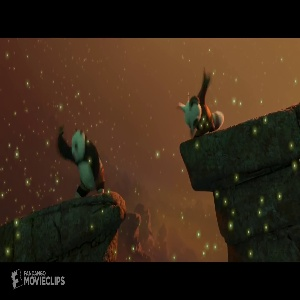po: (55, 123, 108, 196)
shifu: (175, 68, 227, 136)
